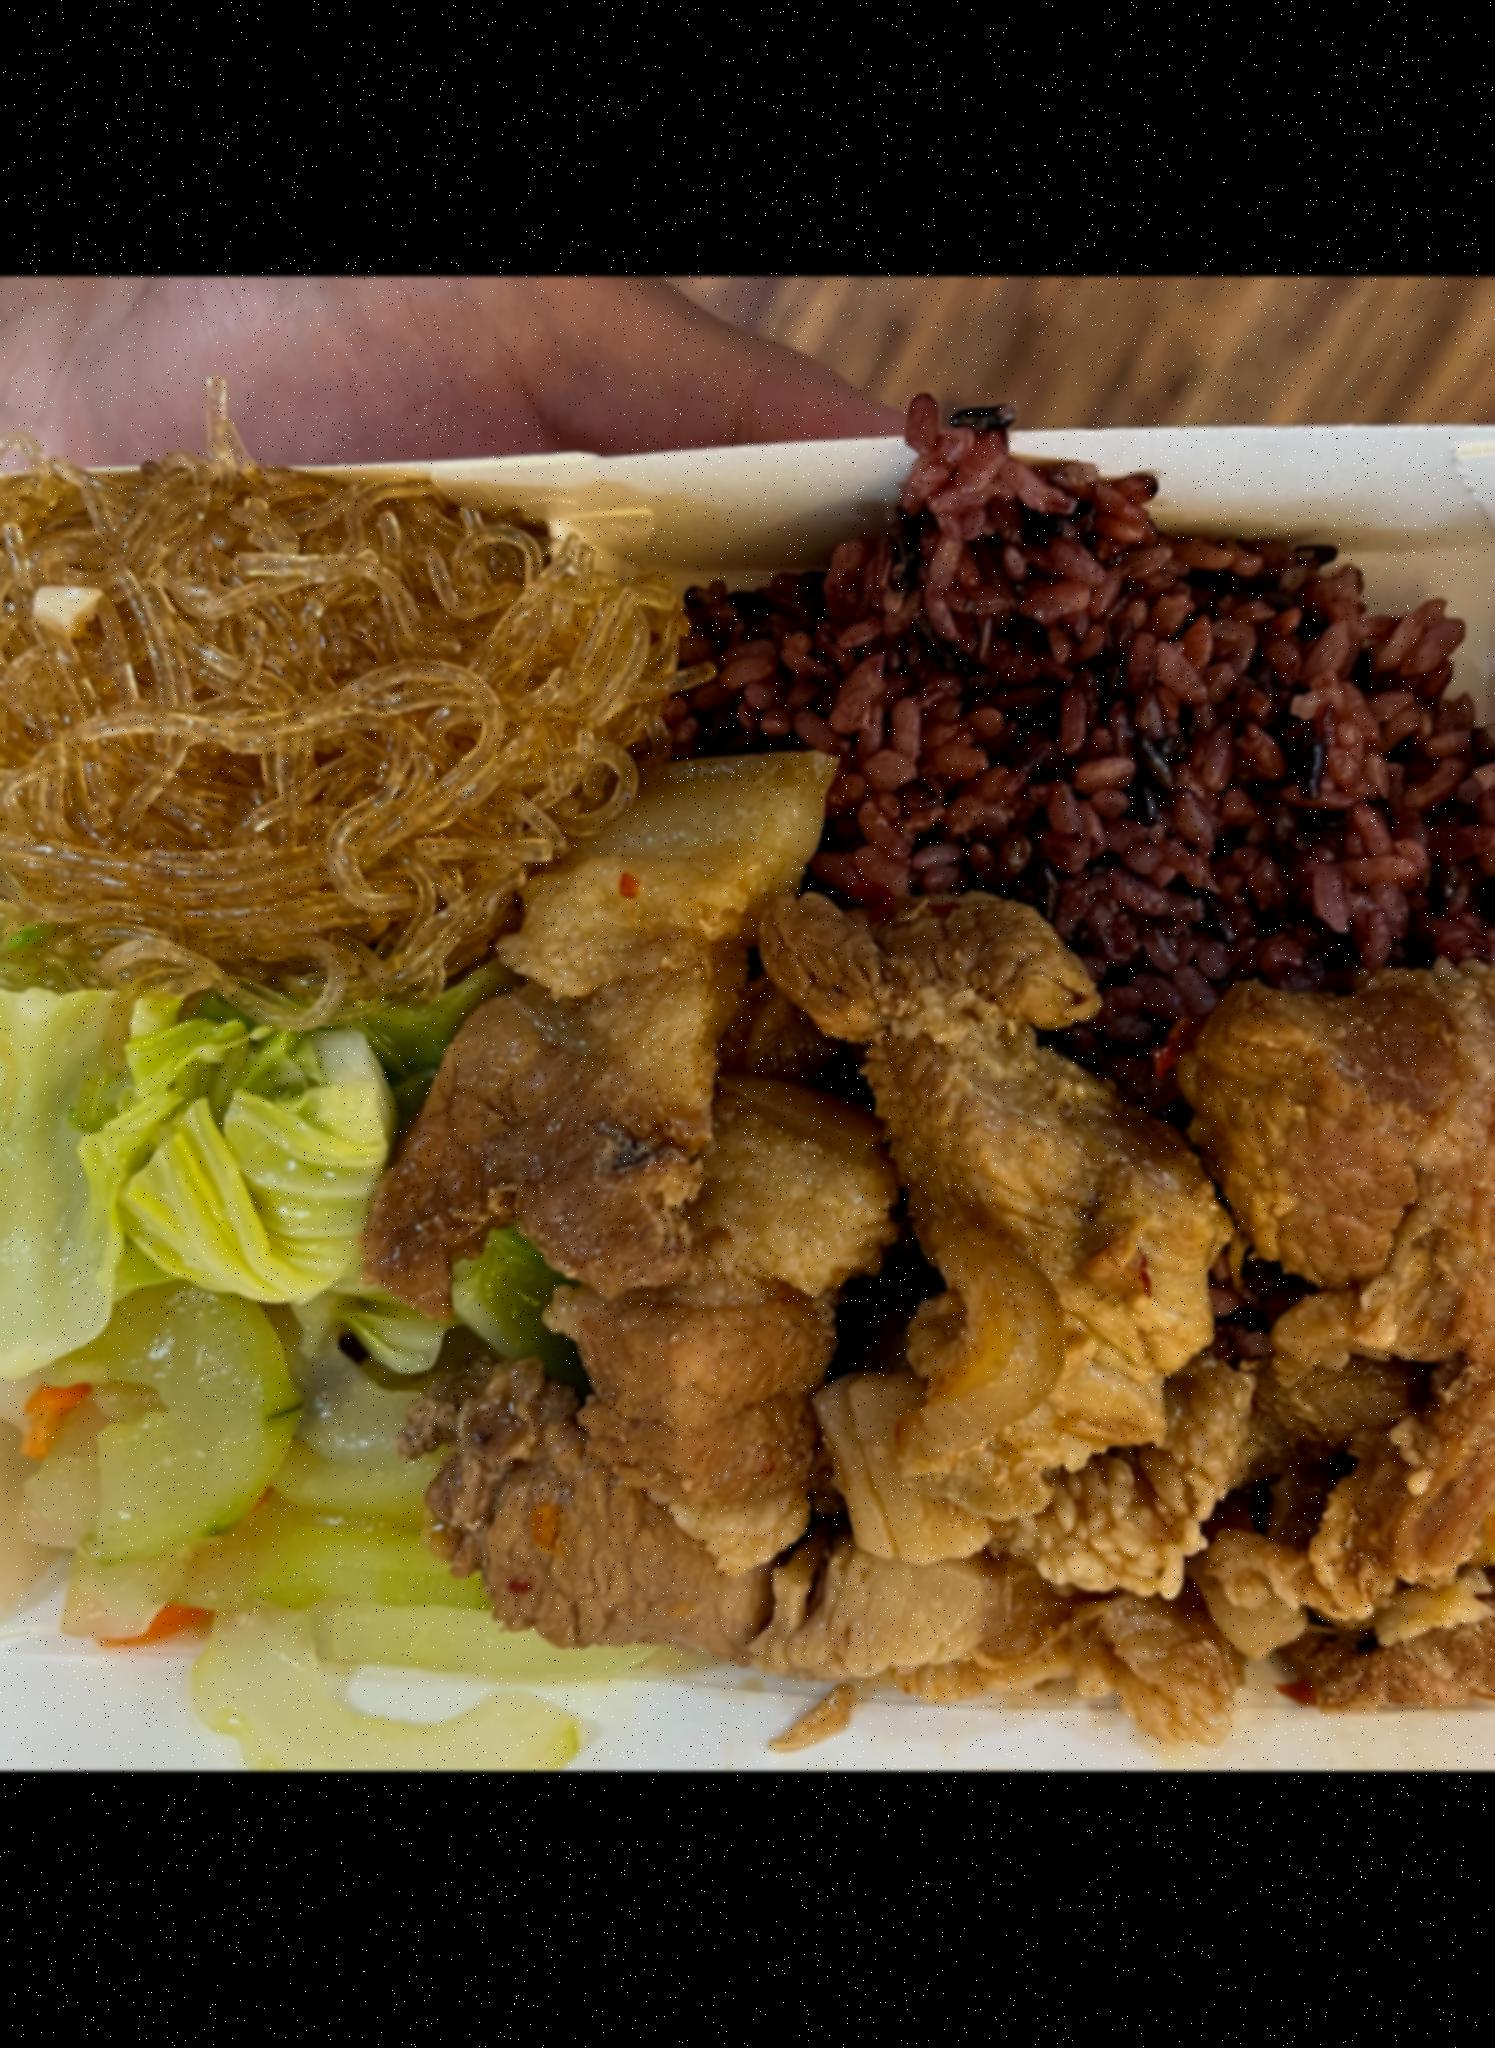big grilled chicken leg: (0, 382, 1495, 1736)
braised fish: (615, 453, 1495, 1269)
braised fish fillet: (0, 884, 600, 1743), (0, 448, 662, 979)
braised pork: (425, 817, 1495, 1719)
